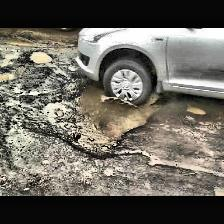pothole: (52, 71, 162, 157), (28, 50, 52, 64), (185, 104, 207, 116), (0, 68, 16, 84)
